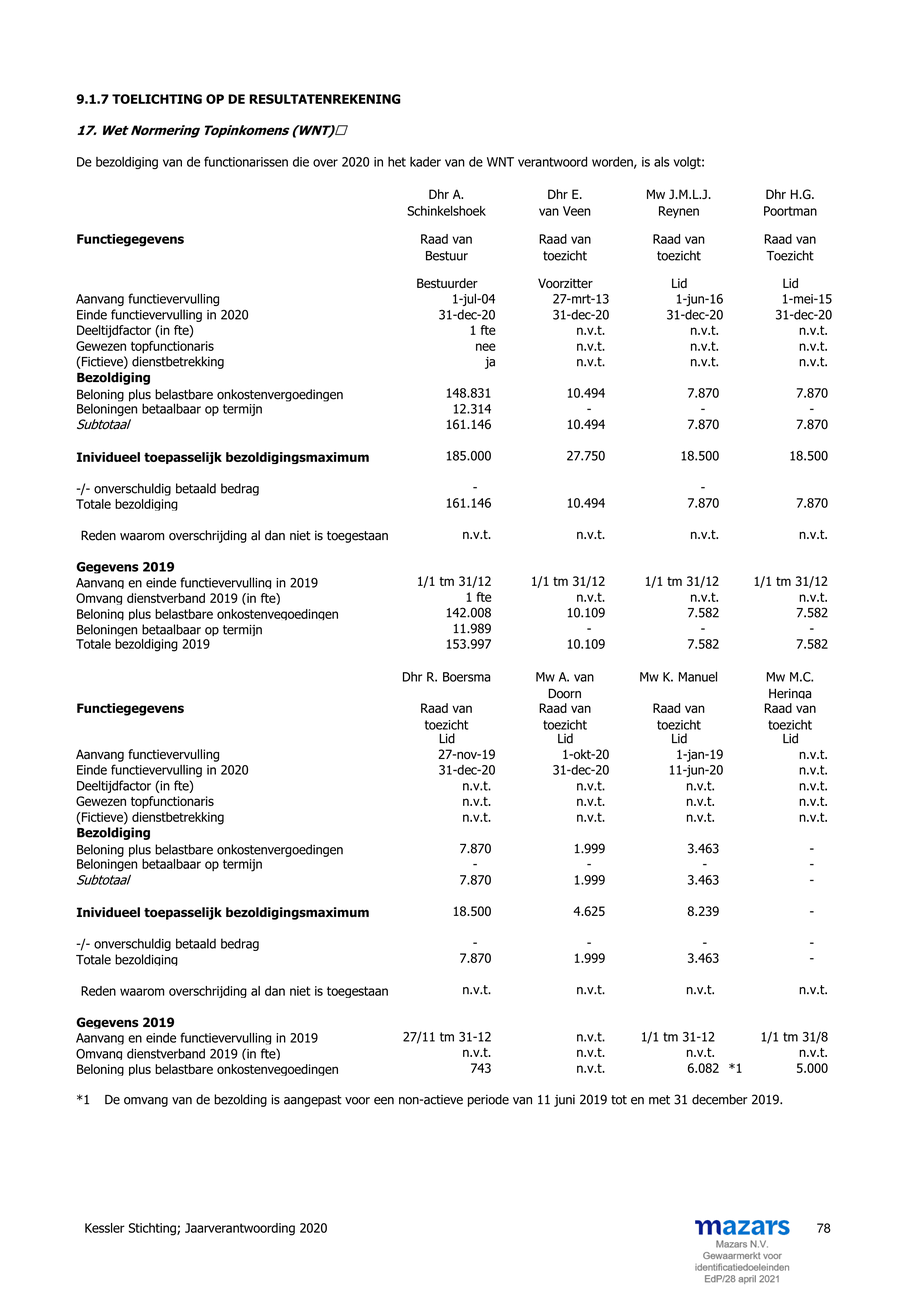coulmn: (58, 225, 387, 662), (66, 698, 394, 1085), (391, 180, 515, 668), (739, 184, 865, 662), (526, 188, 630, 661), (524, 672, 637, 1081), (640, 667, 750, 1083), (398, 673, 504, 1077), (642, 188, 731, 660), (753, 668, 840, 1086)
